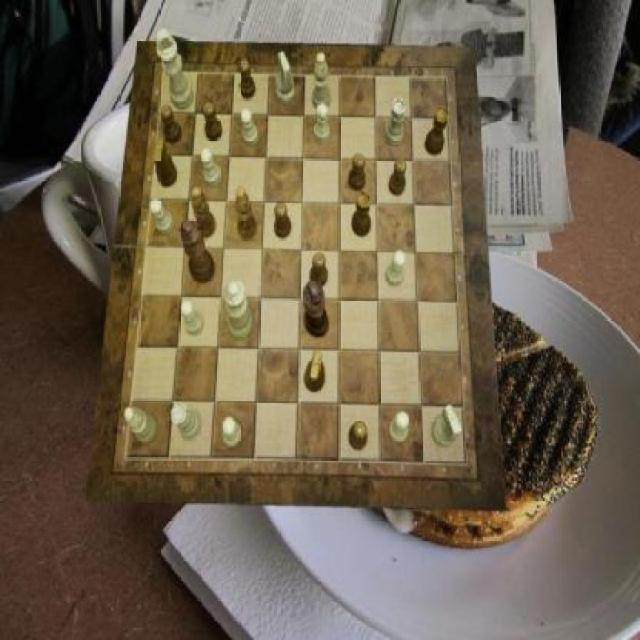bishop: (192, 188, 216, 240), (236, 186, 256, 240)
black-bishop: (303, 280, 329, 338)
black-king: (154, 138, 178, 188), (304, 351, 326, 392)
black-knight: (160, 106, 182, 145), (203, 103, 223, 142), (240, 60, 257, 100), (389, 159, 407, 196), (348, 152, 365, 190), (274, 202, 291, 239), (311, 252, 328, 287), (349, 422, 367, 451)
black-pawn: (180, 218, 215, 284)
black-queen: (426, 106, 451, 156), (352, 192, 372, 238)
black-rook: (124, 406, 158, 444), (314, 52, 331, 110)
white-bishop: (157, 29, 195, 109)
white-king: (432, 405, 462, 447), (276, 50, 294, 104)
white-knight: (151, 198, 175, 234), (202, 148, 222, 186), (182, 302, 204, 336), (240, 108, 259, 146), (386, 251, 406, 287), (314, 104, 331, 144), (388, 412, 408, 445), (223, 417, 242, 448)
white-pawn: (223, 280, 253, 340)
white-queen: (171, 402, 201, 439), (384, 99, 406, 146)
